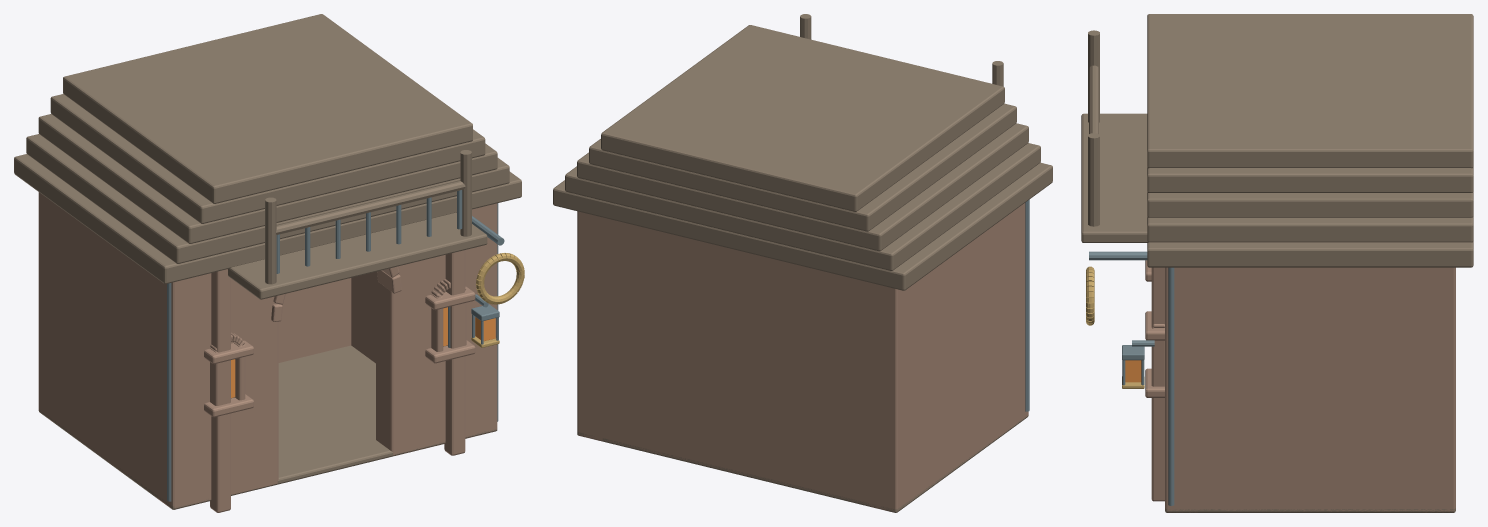
The model's file is a2_service_5.glb.
The picture shows the model from 3 angles, left to right: view 1: azimuth 30°, elevation 25°; view 2: azimuth 150°, elevation 25°; view 3: azimuth 270°, elevation 25°; orthographic projection. The views are drawn at different scales.
Parts seen in each view (by area): view 1: Roof.005, Front.005, Side.005, Body.005; view 2: Roof.005, Body.005, Side.005; view 3: Roof.005, Side.005, Body.005, Front.005.
Boxes of the visible parts, x1=… form: Roof.005: x1=14, y1=14, x2=521, y2=299; Front.005: x1=157, y1=204, x2=524, y2=512; Side.005: x1=39, y1=192, x2=498, y2=509; Body.005: x1=38, y1=192, x2=497, y2=509; Roof.005: x1=553, y1=14, x2=1052, y2=290; Body.005: x1=577, y1=211, x2=1028, y2=512; Side.005: x1=578, y1=199, x2=1029, y2=512; Roof.005: x1=1081, y1=14, x2=1473, y2=267; Side.005: x1=1165, y1=267, x2=1453, y2=511; Body.005: x1=1165, y1=267, x2=1455, y2=512; Front.005: x1=1086, y1=251, x2=1197, y2=512.
Size of the model in its own units: 3.52 by 3.1 by 3.1.
